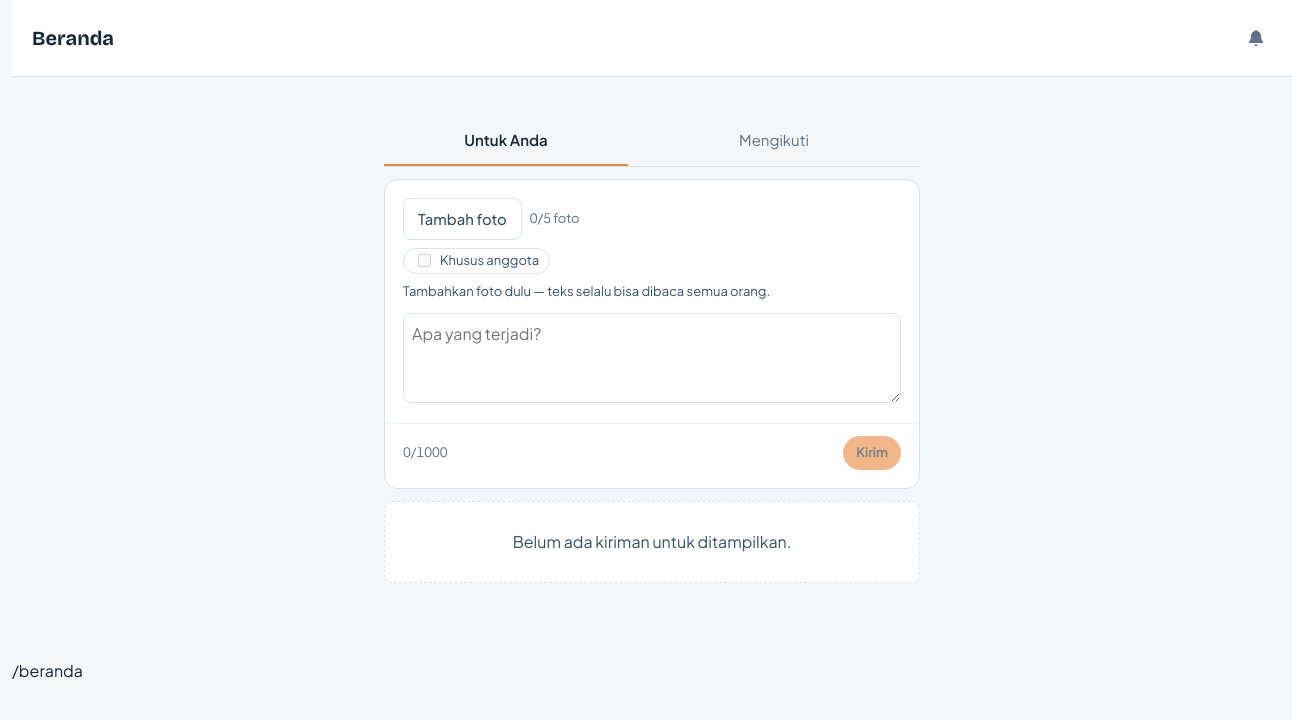
Test: BerandaPage — signed in › keeps the typed text when the create fails, and shows Bahasa copy
Expected: the text "Belum ada kiriman untuk ditampilkan." is shown, [384,501,920,583]
Type "naskah yang panjang" into the text box labelled "Apa yang terjadi?".
click(652, 358); type("naskah yang panjang")  # box [403,313,901,403]
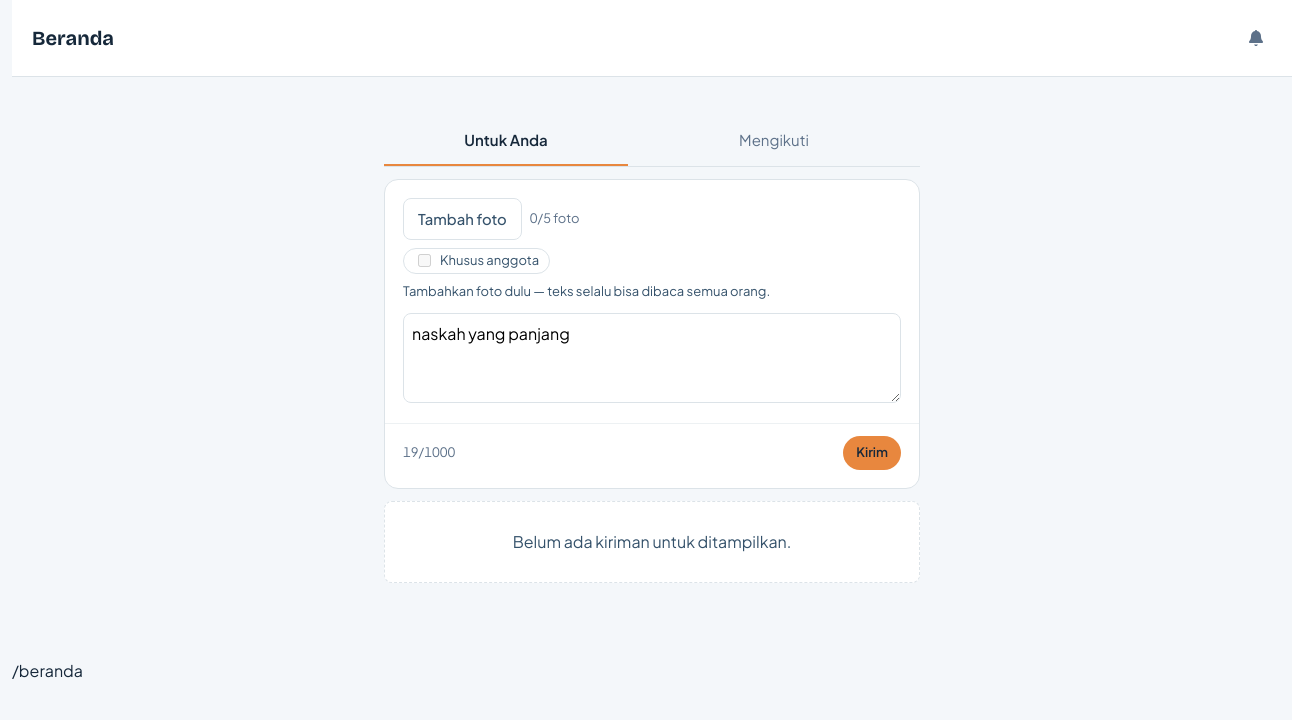
Click the button "Kirim".
click(872, 453)  # box [843,436,901,470]
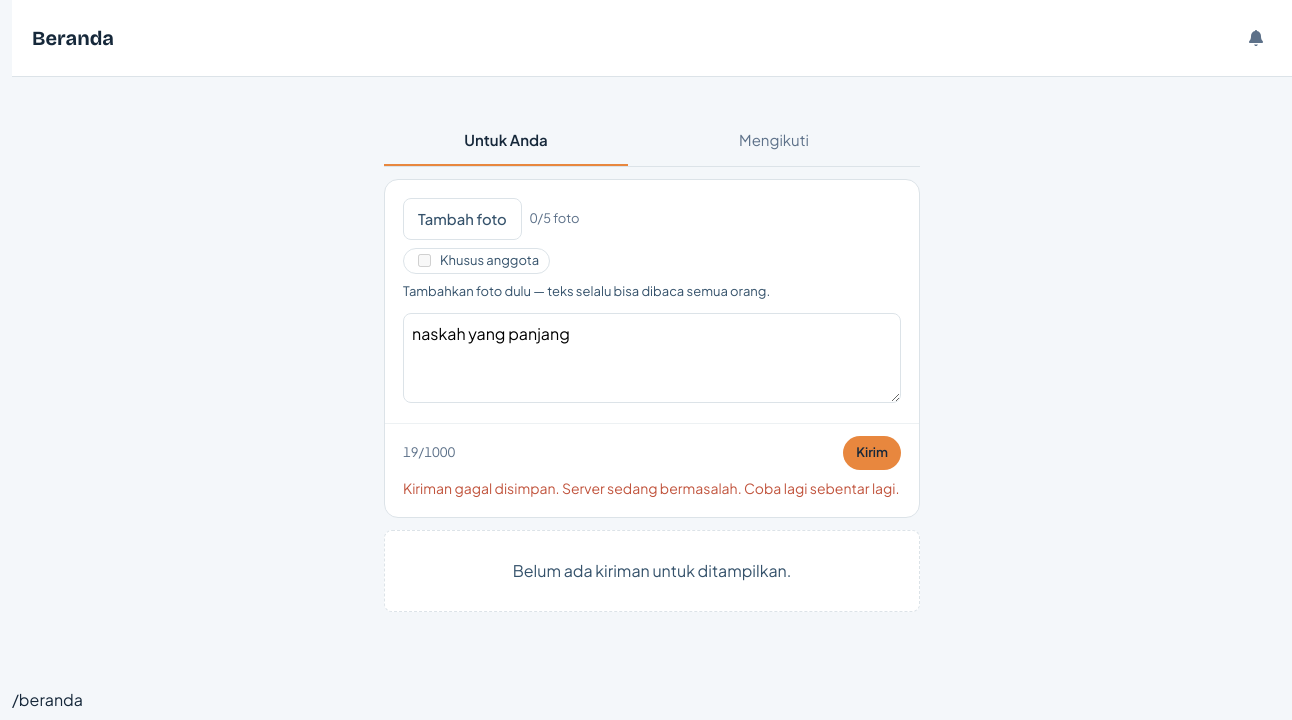
Expected: the message reads "Kiriman gagal disimpan. Server sedang bermasalah. Coba lagi sebentar lagi.", [403,479,900,497]
